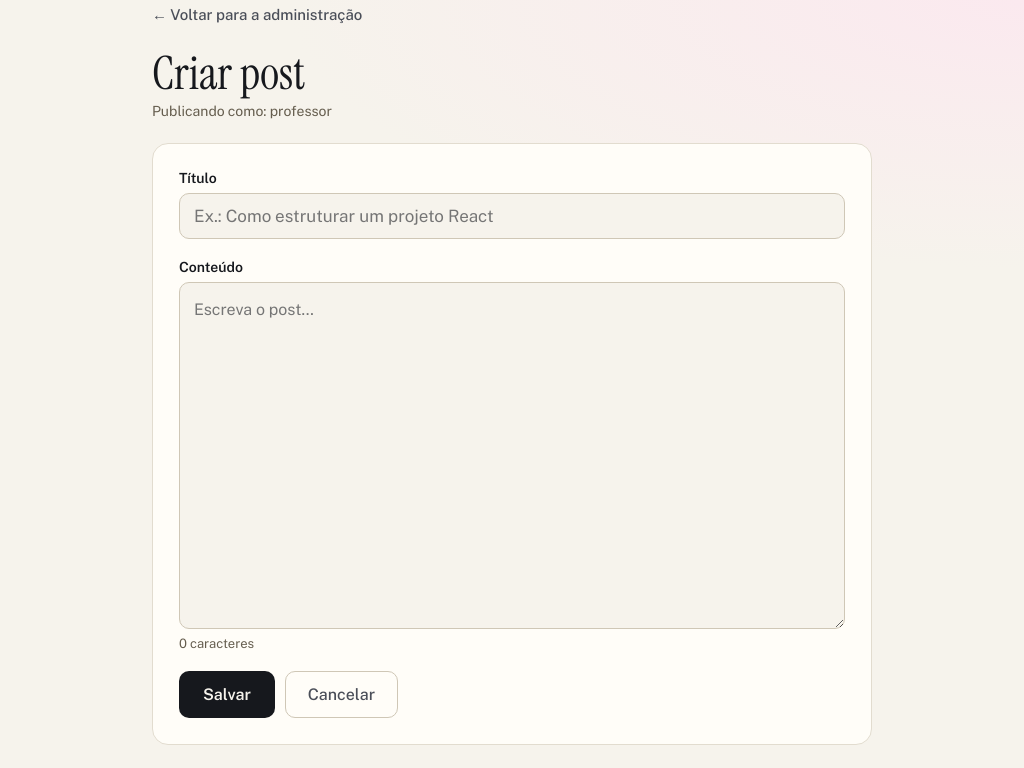
it: sucesso mostra o dialogo de confirmacao, sem navegar sozinho
Type "Titulo" into the field labelled "Título". click: {"x": 512, "y": 216}
box: left=179, top=193, right=845, bottom=239
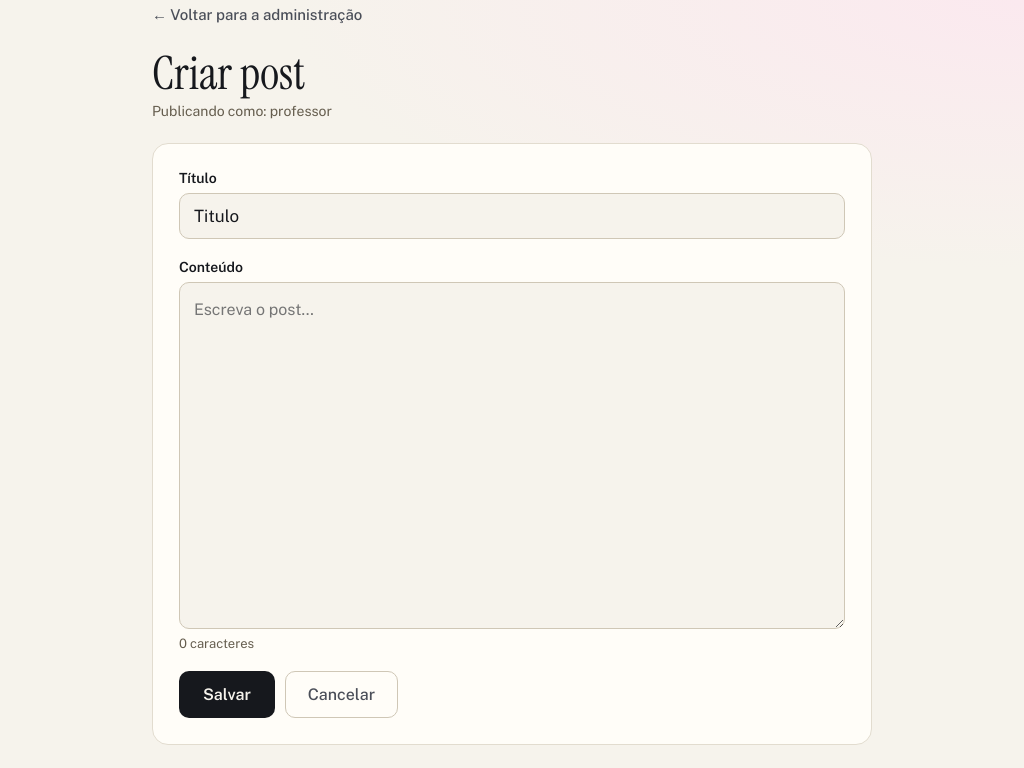
Type "Conteudo" into the text box labelled "Conteúdo". click: {"x": 512, "y": 456}
box: left=179, top=282, right=845, bottom=629
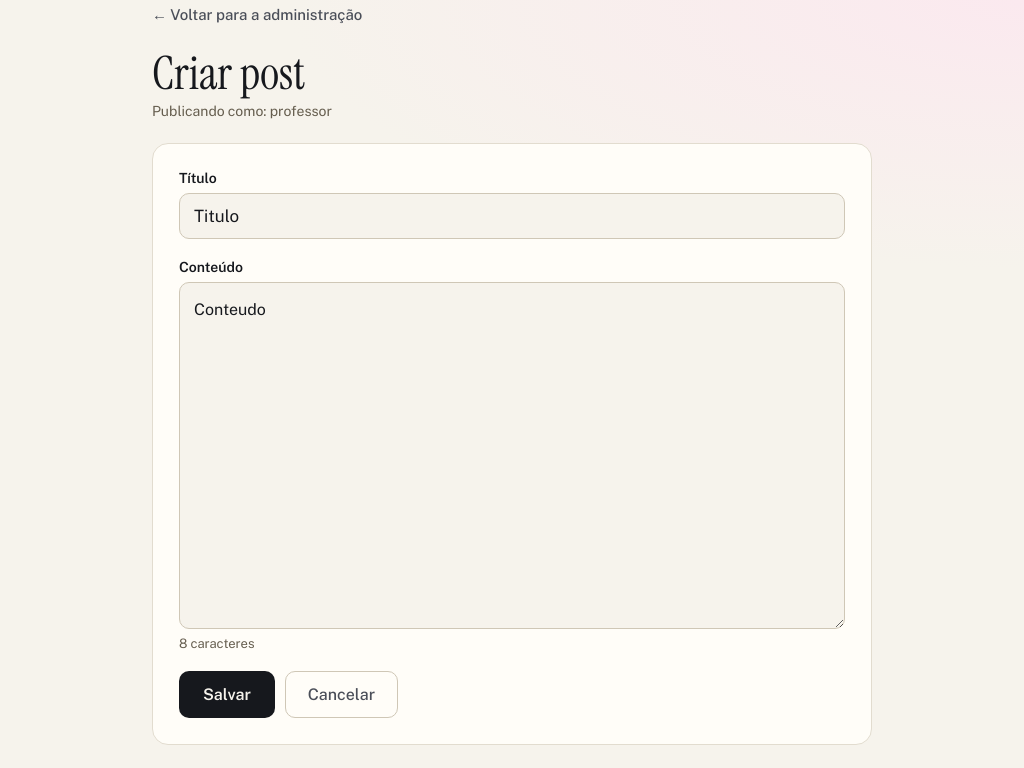
Click the button "Salvar". click: {"x": 227, "y": 694}
box: left=179, top=671, right=275, bottom=718
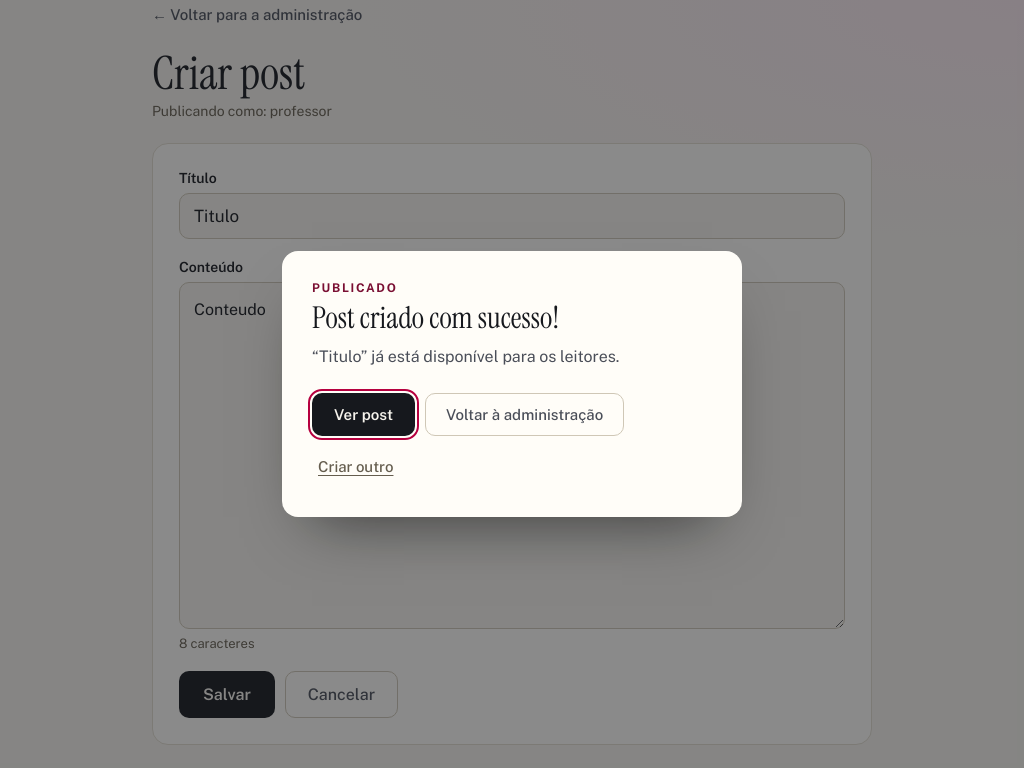
Check: the dialog shows "Post criado com sucesso!", box left=312, top=298, right=559, bottom=337
Check: the text "“Titulo” já está disponível para os leitores." is shown, box left=312, top=347, right=619, bottom=366
